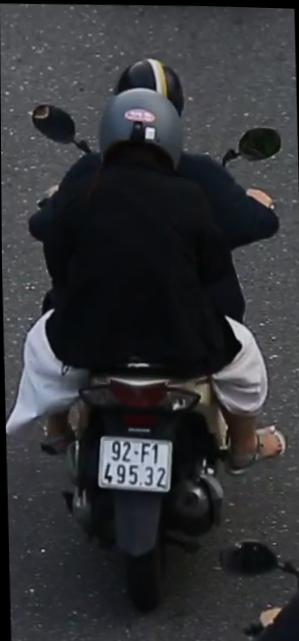LP: (93, 430, 175, 499)
helmet: (93, 83, 189, 180), (112, 51, 186, 119)
